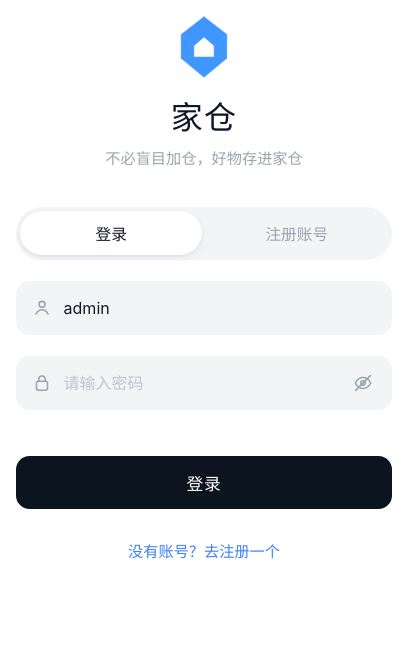
Test: 登录页 › shows reserved-height field errors on empty register submit
Check: the button "登录" is shown, box [16,456,392,509]
Click the tab "注册账号": coordinates (297, 233) [206,211,388,255]
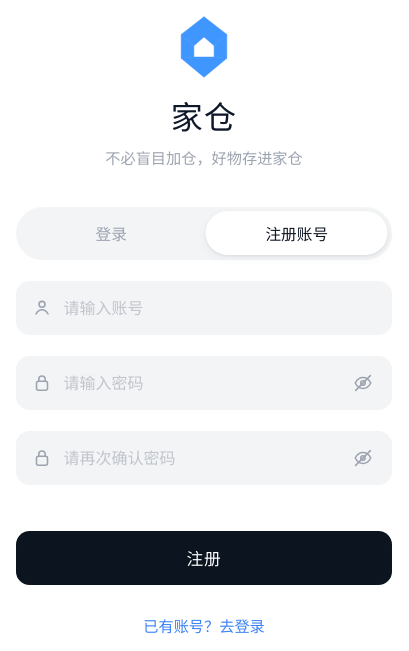
Check: the password field with placeholder "请再次确认密码" is shown, box [64,432,344,485]
Click the button "注册": coordinates (204, 558) [16,531,392,584]
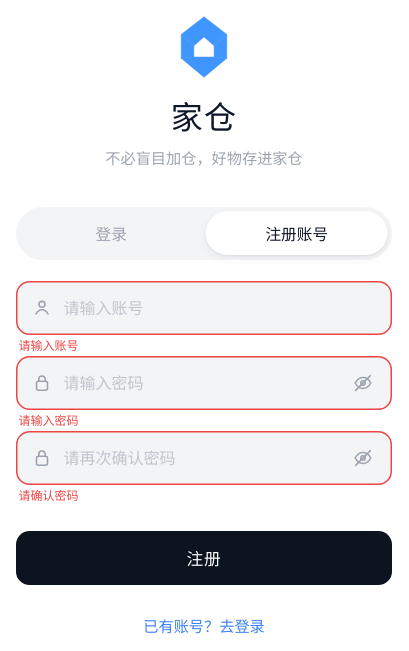
Check: the text "请输入账号" is shown, box [18,338,78,353]
Check: the text "请输入密码" is shown, box [18,413,78,428]
Check: the text "请确认密码" is shown, box [18,488,78,503]
